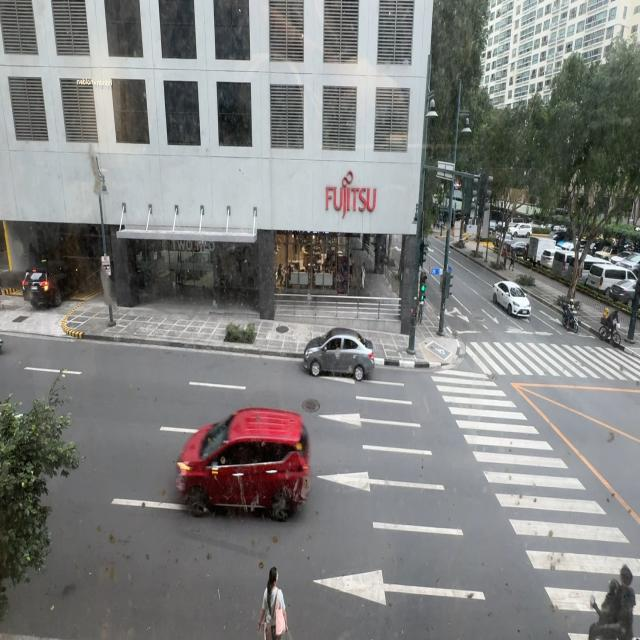crossing: (588, 556, 634, 640)
jaywalking: (256, 556, 288, 640)
